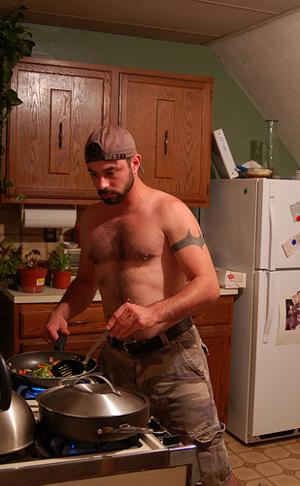person: (43, 126, 235, 486)
